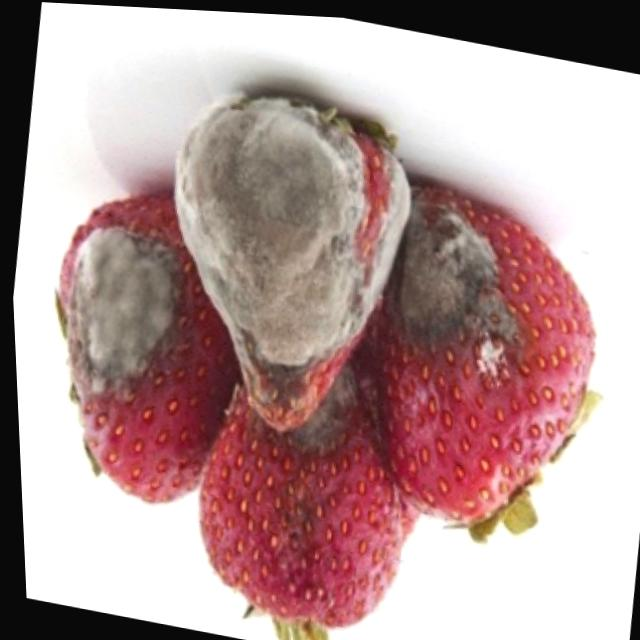Gray Mold: (171, 87, 410, 431), (368, 178, 536, 393), (215, 349, 367, 579), (58, 201, 201, 442)
